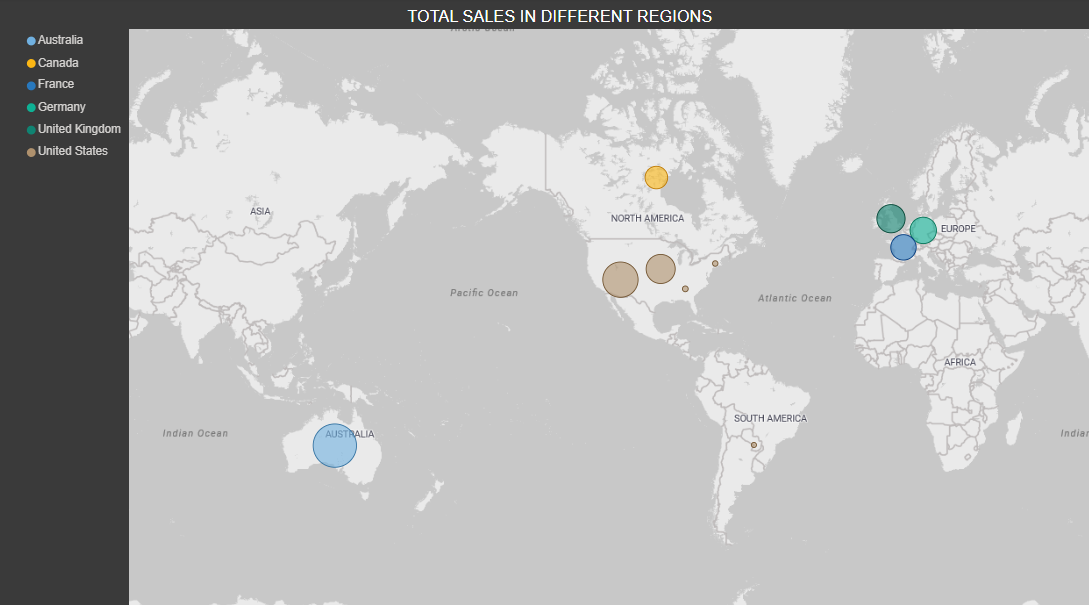

The dashboard page shown, as its layout file describes it:
{"tool":"powerbi","page":{"name":"Sales Map","canvas":[1280,720],"ordinal":2},"visuals":[{"type":"map","title":"TOTAL SALES IN DIFFERENT REGIONS","fields":{"Category":["Region_wise_sales.Region"],"Series":["Region_wise_sales.Country"],"Size":["Sum(Region_wise_sales.Sales_sum)"]},"box":[27.1,11.4,1227.3,708.4],"z":0}]}

Visuals, with their boxes in screenshot pixels (x1, y1, x2, y2), scaled from the page's 1280x720 canvas onto the 1089x605 screenshot:
"TOTAL SALES IN DIFFERENT REGIONS" map: x1=23, y1=10, x2=1067, y2=604
